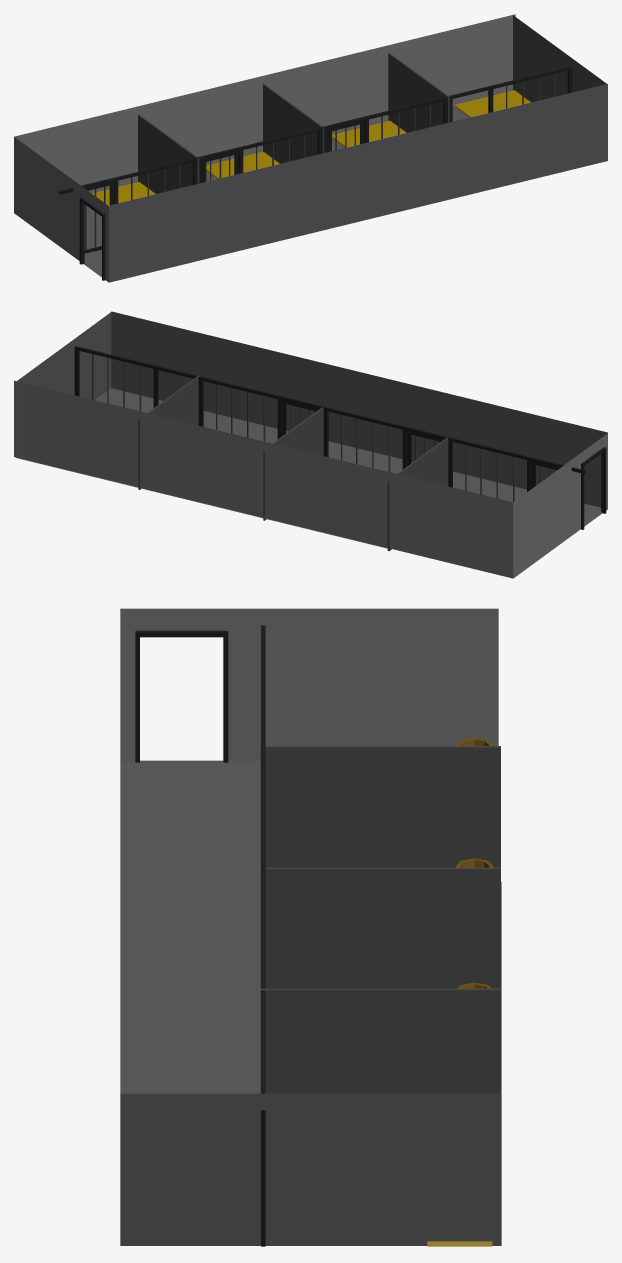
File: Prison.fbx
3 views of the same model, one above another, from view 1: azimuth 30°, elevation 25°; view 2: azimuth 150°, elevation 25°; view 3: azimuth 270°, elevation 25° (orthographic). The views are drawn at different scales.
Parts seen in each view (by area): view 1: polySurface15; view 2: polySurface15; view 3: polySurface15.
Boxes of the visible parts, bbox=[...] form: polySurface15: bbox=[14, 14, 607, 282]; polySurface15: bbox=[14, 311, 607, 578]; polySurface15: bbox=[120, 608, 501, 1246].
Size of the model in its own units: 12.4 by 1.83 by 4.
